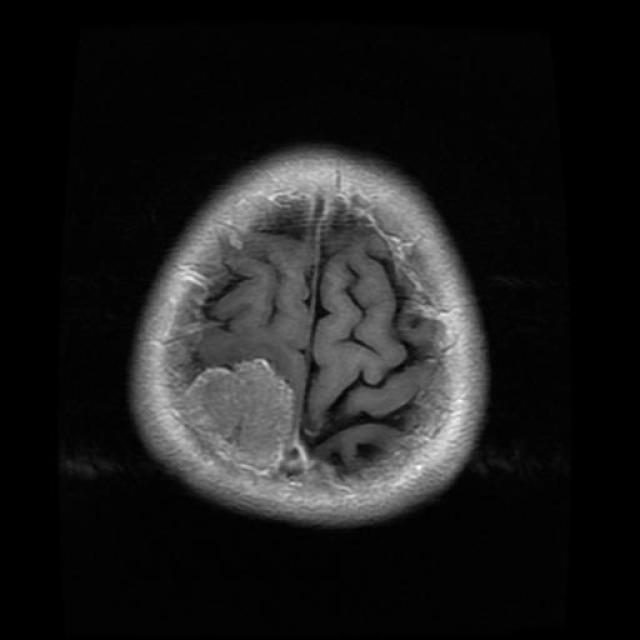meningioma: (182, 360, 294, 479)
